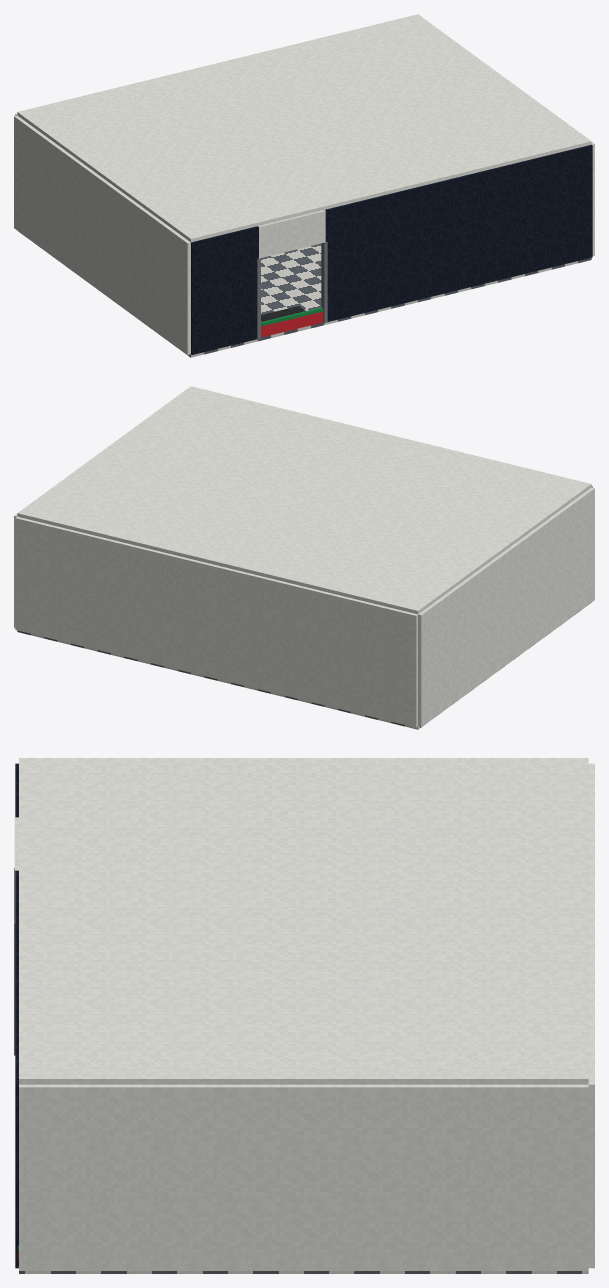
Rendered from env_store_interior.glb.
The picture shows the model from 3 angles, top to bottom: view 1: azimuth 30°, elevation 25°; view 2: azimuth 150°, elevation 25°; view 3: azimuth 270°, elevation 25°; orthographic projection. The views are drawn at different scales.
Parts seen in each view (by area): view 1: env_store_interior; view 2: env_store_interior; view 3: env_store_interior.
Part boxes in pixels (x1,y1,x2,y2): env_store_interior: [14, 14, 594, 357]; env_store_interior: [14, 386, 594, 729]; env_store_interior: [14, 758, 594, 1273].
Bounding box in the file's own units: 12.2 × 3.4 × 9.18.
7 materials, 7 textured.
